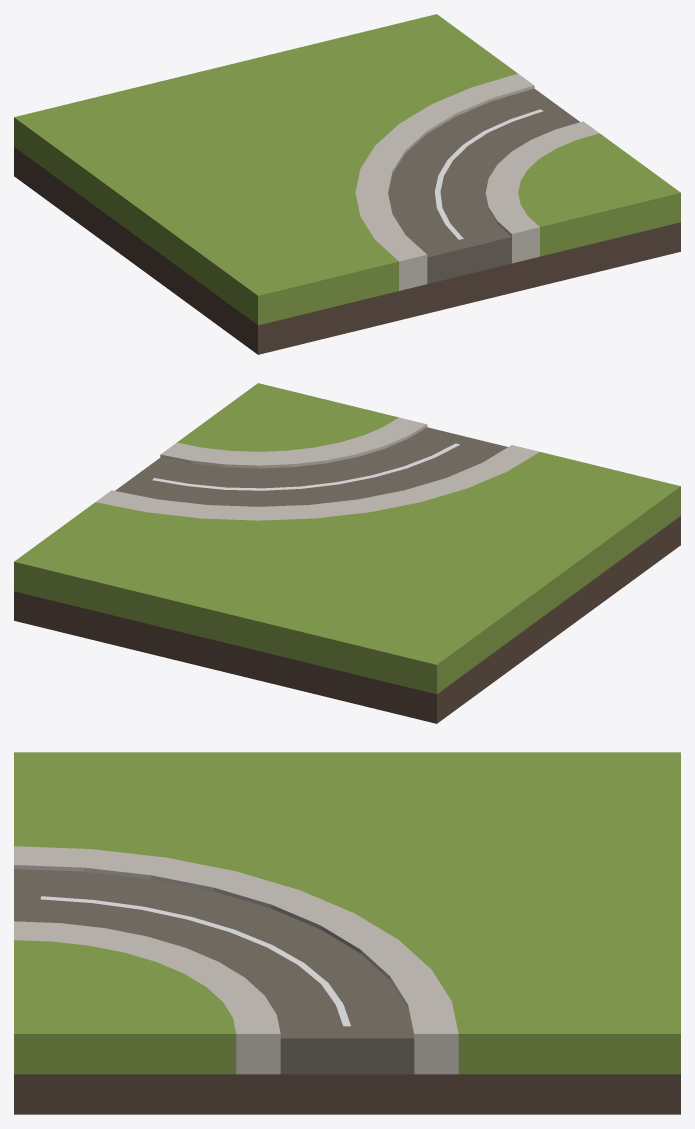
File: road-tile-curve.fbx
The picture shows the model from 3 angles, top to bottom: view 1: azimuth 30°, elevation 25°; view 2: azimuth 150°, elevation 25°; view 3: azimuth 270°, elevation 25°; orthographic projection. The views are drawn at different scales.
Visible parts, largest first — view 1: road-tile-curve; view 2: road-tile-curve; view 3: road-tile-curve.
Boxes of the visible parts, bbox=[...] form: road-tile-curve: bbox=[14, 14, 680, 354]; road-tile-curve: bbox=[14, 383, 680, 723]; road-tile-curve: bbox=[14, 752, 680, 1114].
Size of the model in its own units: 3000 by 400 by 3000.
